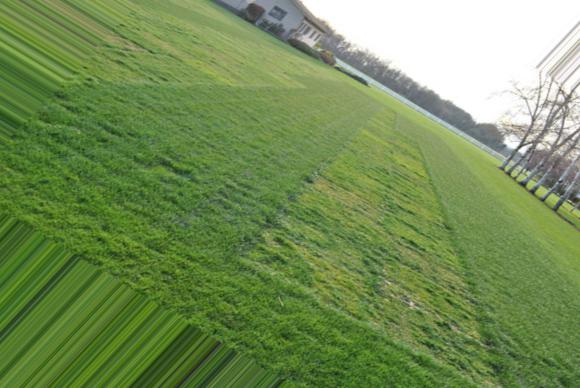patch: (347, 219, 460, 333), (305, 132, 363, 273)
